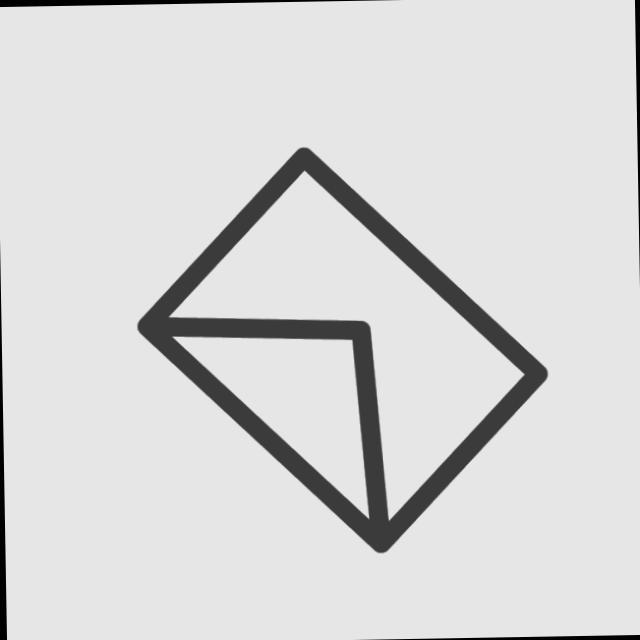letter: (124, 140, 559, 564)
